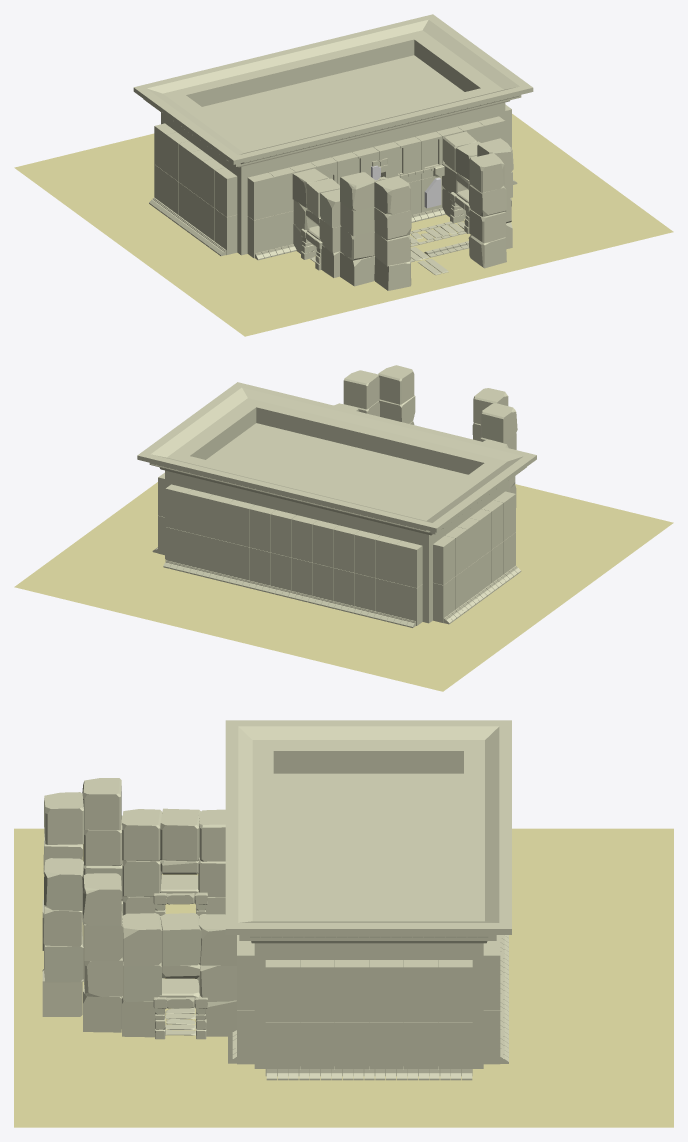
The picture shows the model from 3 angles, top to bottom: view 1: azimuth 30°, elevation 25°; view 2: azimuth 150°, elevation 25°; view 3: azimuth 270°, elevation 25°; orthographic projection. The views are drawn at different scales.
Parts seen in each view (by area): view 1: Plane.001, Cube, Cube.007, Cube.067, Cube.061, Cube.068, Cube.025, Cube.028, Cube.063, Cube.024, Cube.031, Cube.065 (+4 smaller); view 2: Plane.001, Cube, Cube.060, Cube.061, Cube.068, Cube.067, Cube.059, Cube.063, Cube.065; view 3: Plane.001, Cube, Cube.061, Cube.068, Cube.067, Cube.028, Cube.031, Cube.025, Cube.030, Cube.063, Cube.024, Cube.060 (+7 smaller).
Boxes of the visible parts, bbox=[...] form: Plane.001: bbox=[14, 114, 673, 336]; Cube: bbox=[133, 14, 533, 255]; Cube.007: bbox=[247, 116, 505, 258]; Cube.067: bbox=[374, 153, 506, 290]; Cube.061: bbox=[154, 104, 511, 254]; Cube.068: bbox=[340, 138, 513, 286]; Cube.025: bbox=[292, 131, 476, 207]; Cube.028: bbox=[306, 141, 480, 217]; Cube.063: bbox=[149, 180, 517, 256]; Cube.024: bbox=[293, 162, 466, 229]; Cube.031: bbox=[320, 155, 477, 227]; Cube.065: bbox=[240, 95, 520, 164]; Plane.001: bbox=[14, 482, 673, 691]; Cube: bbox=[137, 382, 536, 623]; Cube.060: bbox=[165, 484, 422, 625]; Cube.061: bbox=[158, 472, 515, 623]; Cube.068: bbox=[343, 370, 517, 507]; Cube.067: bbox=[378, 365, 508, 440]; Cube.059: bbox=[163, 560, 415, 627]; Cube.063: bbox=[152, 547, 521, 624]; Cube.065: bbox=[150, 463, 430, 532]; Plane.001: bbox=[14, 828, 673, 1127]; Cube: bbox=[225, 720, 511, 1068]; Cube.061: bbox=[265, 960, 472, 1076]; Cube.068: bbox=[82, 778, 122, 1032]; Cube.067: bbox=[42, 792, 83, 1016]; Cube.028: bbox=[160, 808, 201, 966]; Cube.031: bbox=[122, 809, 162, 966]; Cube.025: bbox=[198, 809, 236, 965]; Cube.030: bbox=[122, 860, 161, 1001]; Cube.063: bbox=[266, 1066, 472, 1080]; Cube.024: bbox=[198, 857, 236, 1001]; Cube.060: bbox=[483, 935, 500, 1064].
Bounding box in the file's own units: 13705 × 3385 × 12779.
